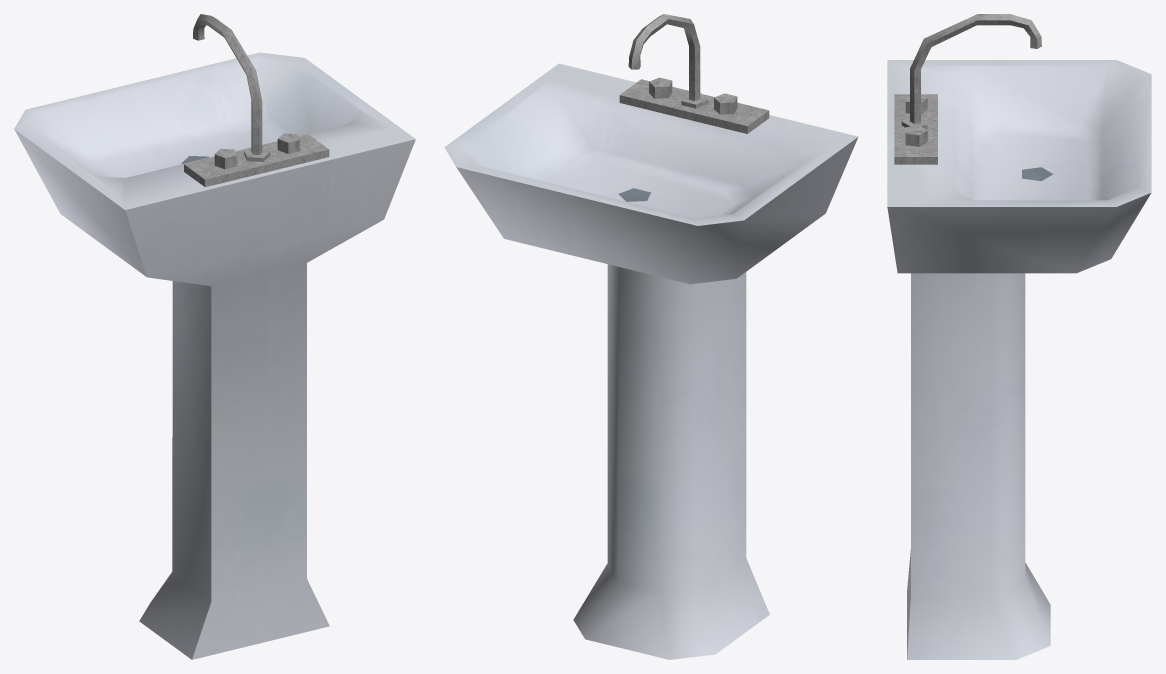
File: Washbasin_06-col.glb
3 views of the same model, side by side, from view 1: azimuth 30°, elevation 25°; view 2: azimuth 150°, elevation 25°; view 3: azimuth 270°, elevation 25° (orthographic). The views are drawn at different scales.
Parts seen in each view (by area): view 1: Washbasin_06-col; view 2: Washbasin_06-col; view 3: Washbasin_06-col, Manija_Washbasin_08.
Part boxes in pixels (x1,y1,x2,y2): Washbasin_06-col: (14, 14, 415, 659); Washbasin_06-col: (444, 14, 858, 659); Washbasin_06-col: (887, 14, 1151, 659); Manija_Washbasin_08: (905, 125, 927, 146).
Bounding box in the file's own units: 0.6024 × 1.17 × 0.4586.
Materials: 3 (3 with a texture image).
